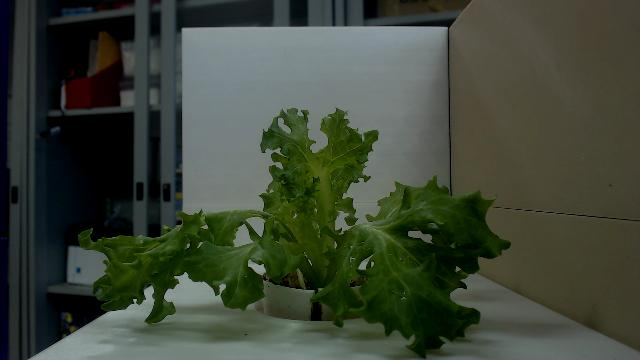Harvest Stage: (78, 107, 510, 360)
